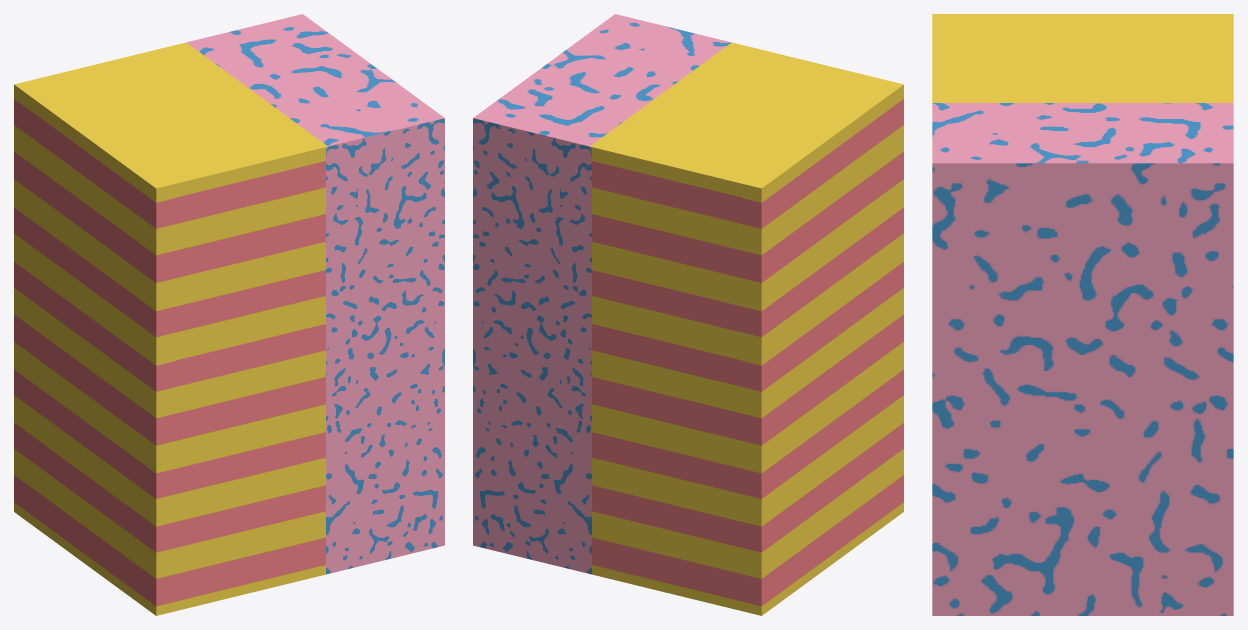
Rendered from M_block_01.fbx.
The picture shows the model from 3 angles, left to right: view 1: azimuth 30°, elevation 25°; view 2: azimuth 150°, elevation 25°; view 3: azimuth 270°, elevation 25°; orthographic projection. The views are drawn at different scales.
Visible parts, largest first — view 1: Cube.005; view 2: Cube.005; view 3: Cube.005.
Part boxes in pixels (box(x1,y1,x2,y2)): Cube.005: box(14, 14, 444, 615); Cube.005: box(473, 14, 903, 615); Cube.005: box(932, 14, 1233, 615).
Size of the model in its own units: 276 by 390 by 235.
